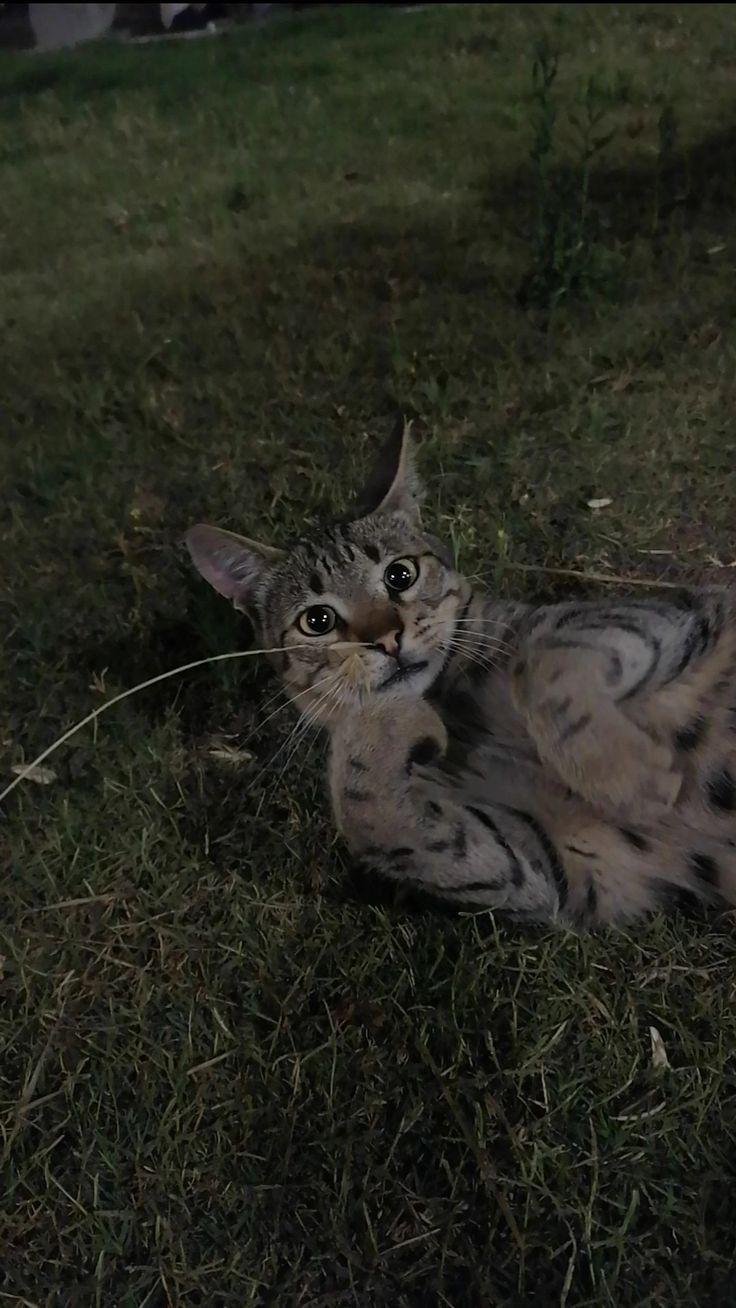kedo: (187, 413, 736, 919)
